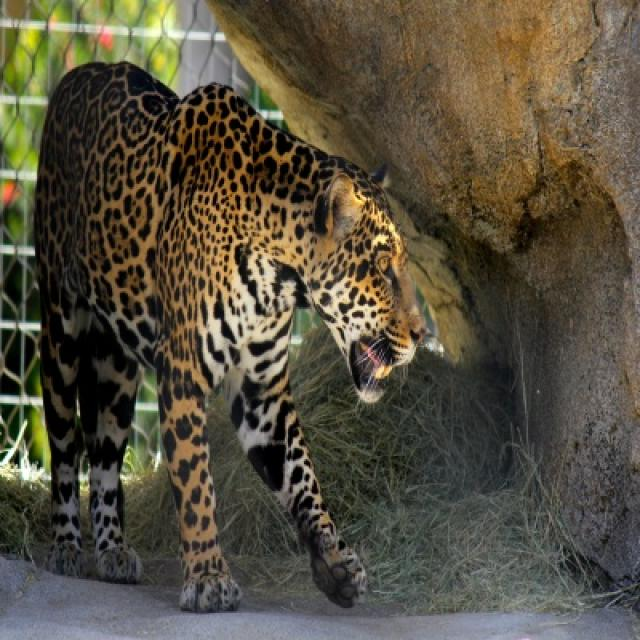Jaguar: (30, 61, 437, 616)
